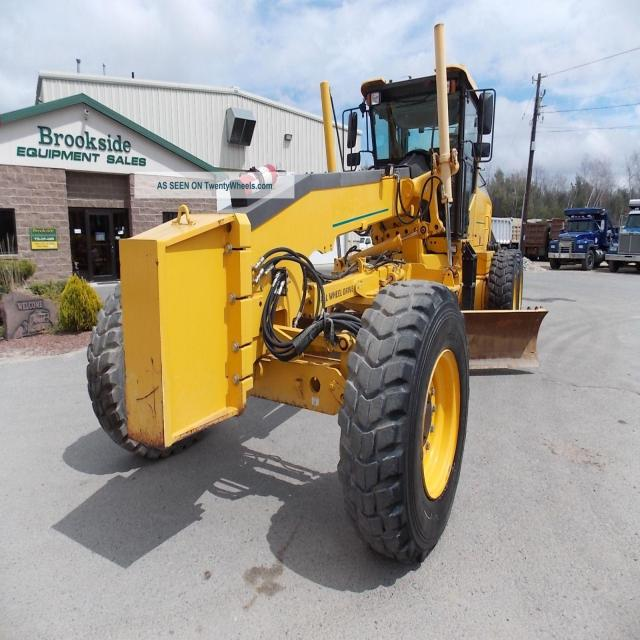Grader: (60, 40, 598, 583)
